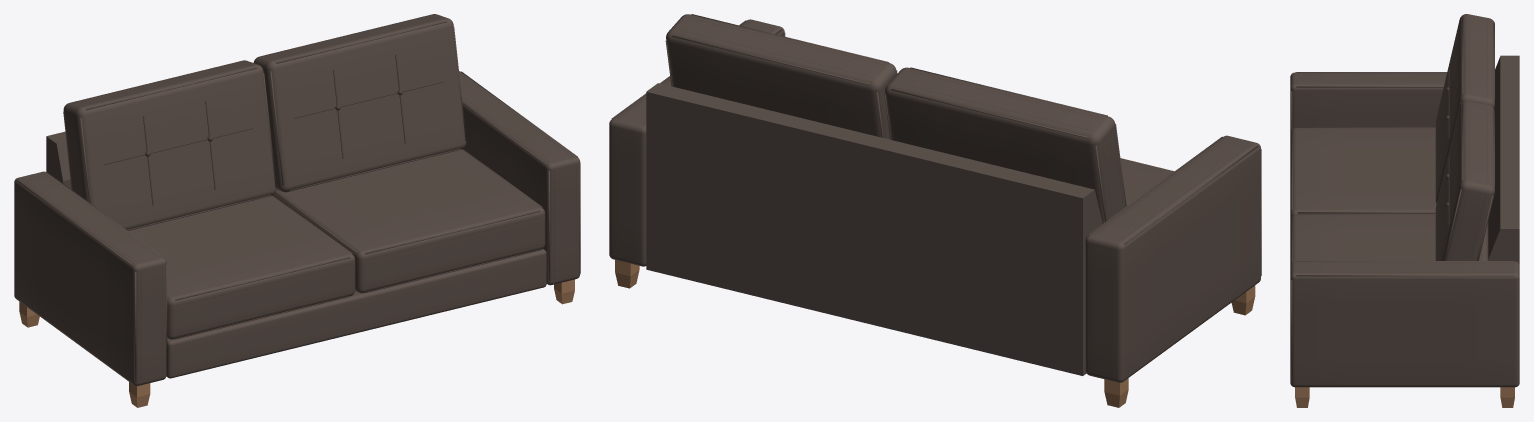
The model's file is benza_200x95.glb.
The picture shows the model from 3 angles, left to right: view 1: azimuth 30°, elevation 25°; view 2: azimuth 150°, elevation 25°; view 3: azimuth 270°, elevation 25°; orthographic projection. The views are drawn at different scales.
Visible parts, largest first — view 1: p1, p2, p0; view 2: p1, p0, p2; view 3: p1, p2, p0.
Part boxes in pixels (x1=…): p1: x1=14, y1=14, x2=580, y2=385; p2: x1=22, y1=15, x2=576, y2=380; p0: x1=19, y1=279, x2=574, y2=407; p1: x1=609, y1=14, x2=1261, y2=382; p0: x1=615, y1=260, x2=1255, y2=407; p2: x1=618, y1=17, x2=1250, y2=240; p1: x1=1290, y1=14, x2=1519, y2=387; p2: x1=1300, y1=16, x2=1512, y2=272; p0: x1=1295, y1=387, x2=1514, y2=407.
Size of the model in its own units: 2 by 0.9642 by 0.9506.
Materials: 3 (2 with a texture image).
